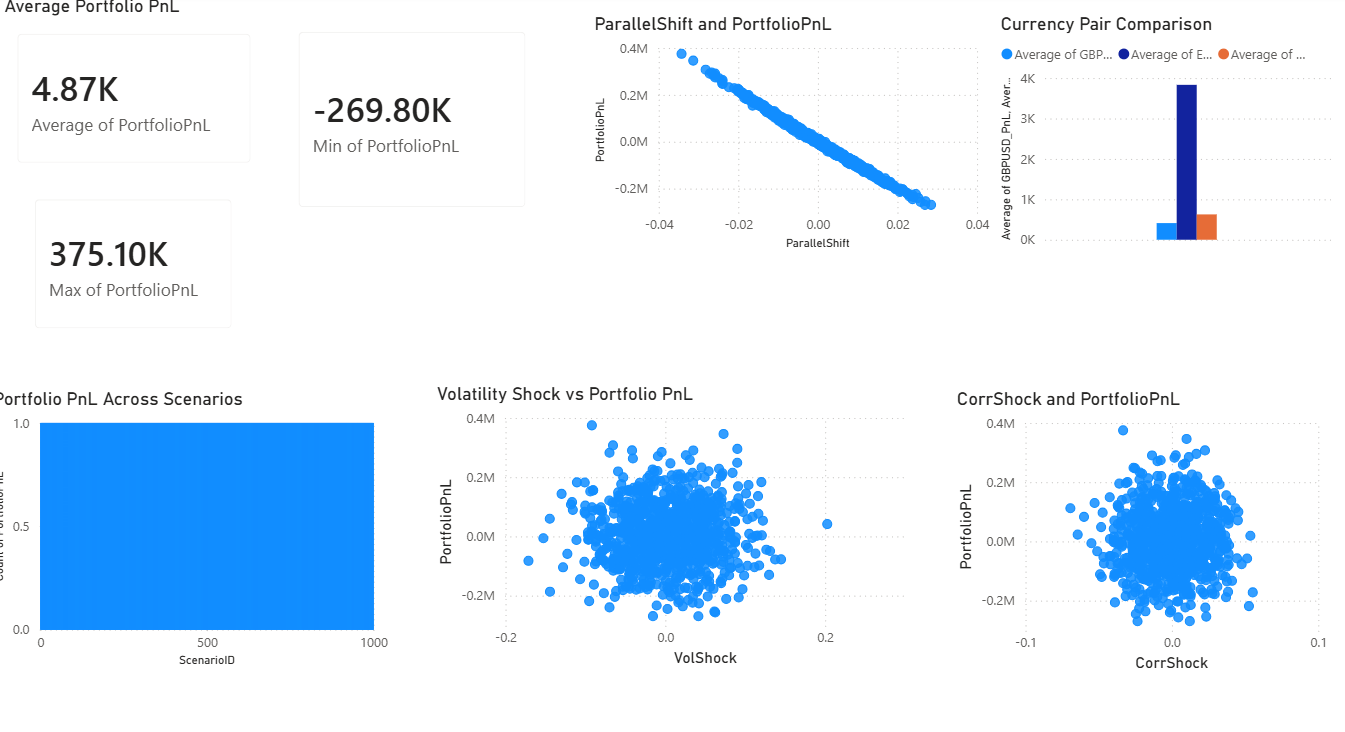

What the dashboard file says about the page in this screenshot:
{"tool":"powerbi","page":{"name":"Monte Carlo Risk Analysis","canvas":[1280,720],"ordinal":3},"visuals":[{"type":"cardVisual","title":"Average Portfolio PnL","fields":{"Data":["Avg(mc_processed.PortfolioPnL)"]},"box":[10.5,0,251.2,173.3],"z":0},{"type":"cardVisual","fields":{"Data":["Max(mc_processed.PortfolioPnL)"]},"box":[26.7,173.3,217.4,154.7],"z":1000},{"type":"cardVisual","fields":{"Data":["Min(mc_processed.PortfolioPnL)"]},"box":[272.1,17.4,245.3,197.7],"z":2000},{"type":"lineChart","title":"Portfolio PnL Across Scenarios","fields":{"Category":["mc_processed.ScenarioID"],"Y":["Sum(mc_processed.PortfolioPnL)"]},"box":[0,365.1,377.9,265.1],"z":3000},{"type":"scatterChart","fields":{"X":["mc_processed.ParallelShift"],"Y":["mc_processed.PortfolioPnL"]},"box":[559.3,16.3,377.9,225.6],"z":4000},{"type":"scatterChart","title":"Volatility Shock vs Portfolio PnL","fields":{"X":["mc_processed.VolShock"],"Y":["mc_processed.PortfolioPnL"]},"box":[412.8,360.5,453.5,269.8],"z":5000},{"type":"scatterChart","fields":{"X":["mc_processed.CorrShock"],"Y":["mc_processed.PortfolioPnL"]},"box":[896.5,365.1,358.1,269.8],"z":6000},{"type":"clusteredColumnChart","title":"Currency Pair Comparison","fields":{"Y":["Avg(mc_processed.GBPUSD_PnL)","Avg(mc_processed.EURUSD_PnL)","Avg(mc_processed.USDJPY_PnL)"]},"box":[937.2,16.3,317.4,225.6],"z":7000}]}

Visuals, with their boxes on the page's 1280x720 design canvas (x1, y1, x2, y2). These are canvas units, not pixel positions in the 1345x732 screenshot, which may show the page scaled, cropped or inside an application window:
"Average Portfolio PnL" cardVisual: locate(10, 0, 262, 173)
cardVisual - Max(mc_processed.PortfolioPnL): locate(27, 173, 244, 328)
cardVisual - Min(mc_processed.PortfolioPnL): locate(272, 17, 517, 215)
"Portfolio PnL Across Scenarios" lineChart: locate(0, 365, 378, 630)
scatterChart - mc_processed.ParallelShift x mc_processed.PortfolioPnL: locate(559, 16, 937, 242)
"Volatility Shock vs Portfolio PnL" scatterChart: locate(413, 360, 866, 630)
scatterChart - mc_processed.CorrShock x mc_processed.PortfolioPnL: locate(896, 365, 1255, 635)
"Currency Pair Comparison" clusteredColumnChart: locate(937, 16, 1255, 242)
